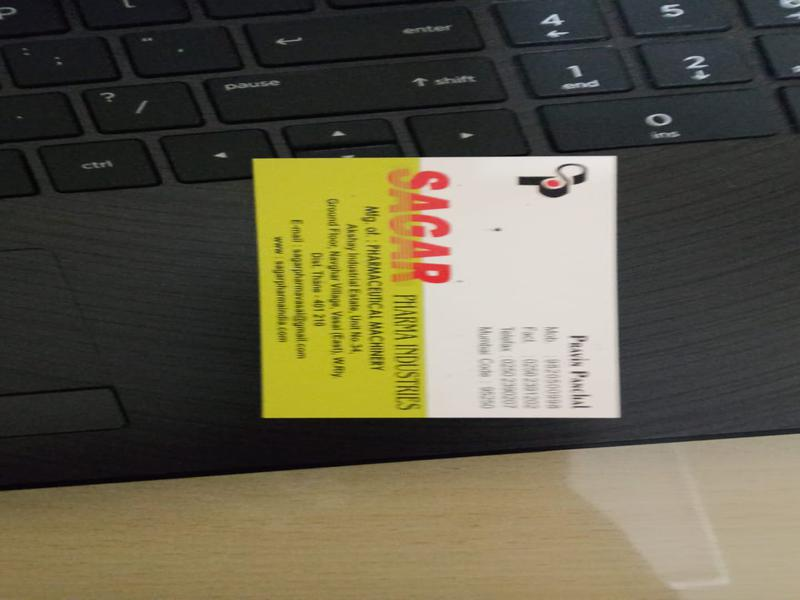card: (251, 150, 623, 429)
